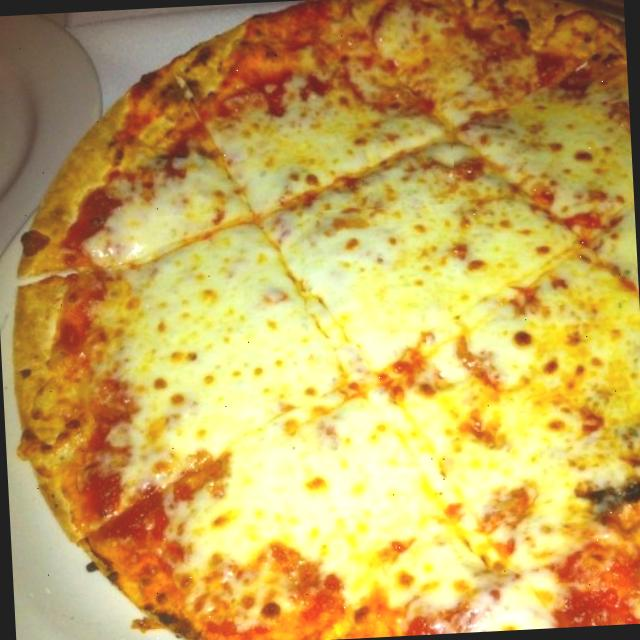cheese: (211, 406, 450, 590), (118, 210, 300, 440), (452, 103, 638, 314), (194, 92, 453, 214), (302, 204, 469, 360), (435, 342, 596, 496)
pizza: (14, 0, 640, 640)
